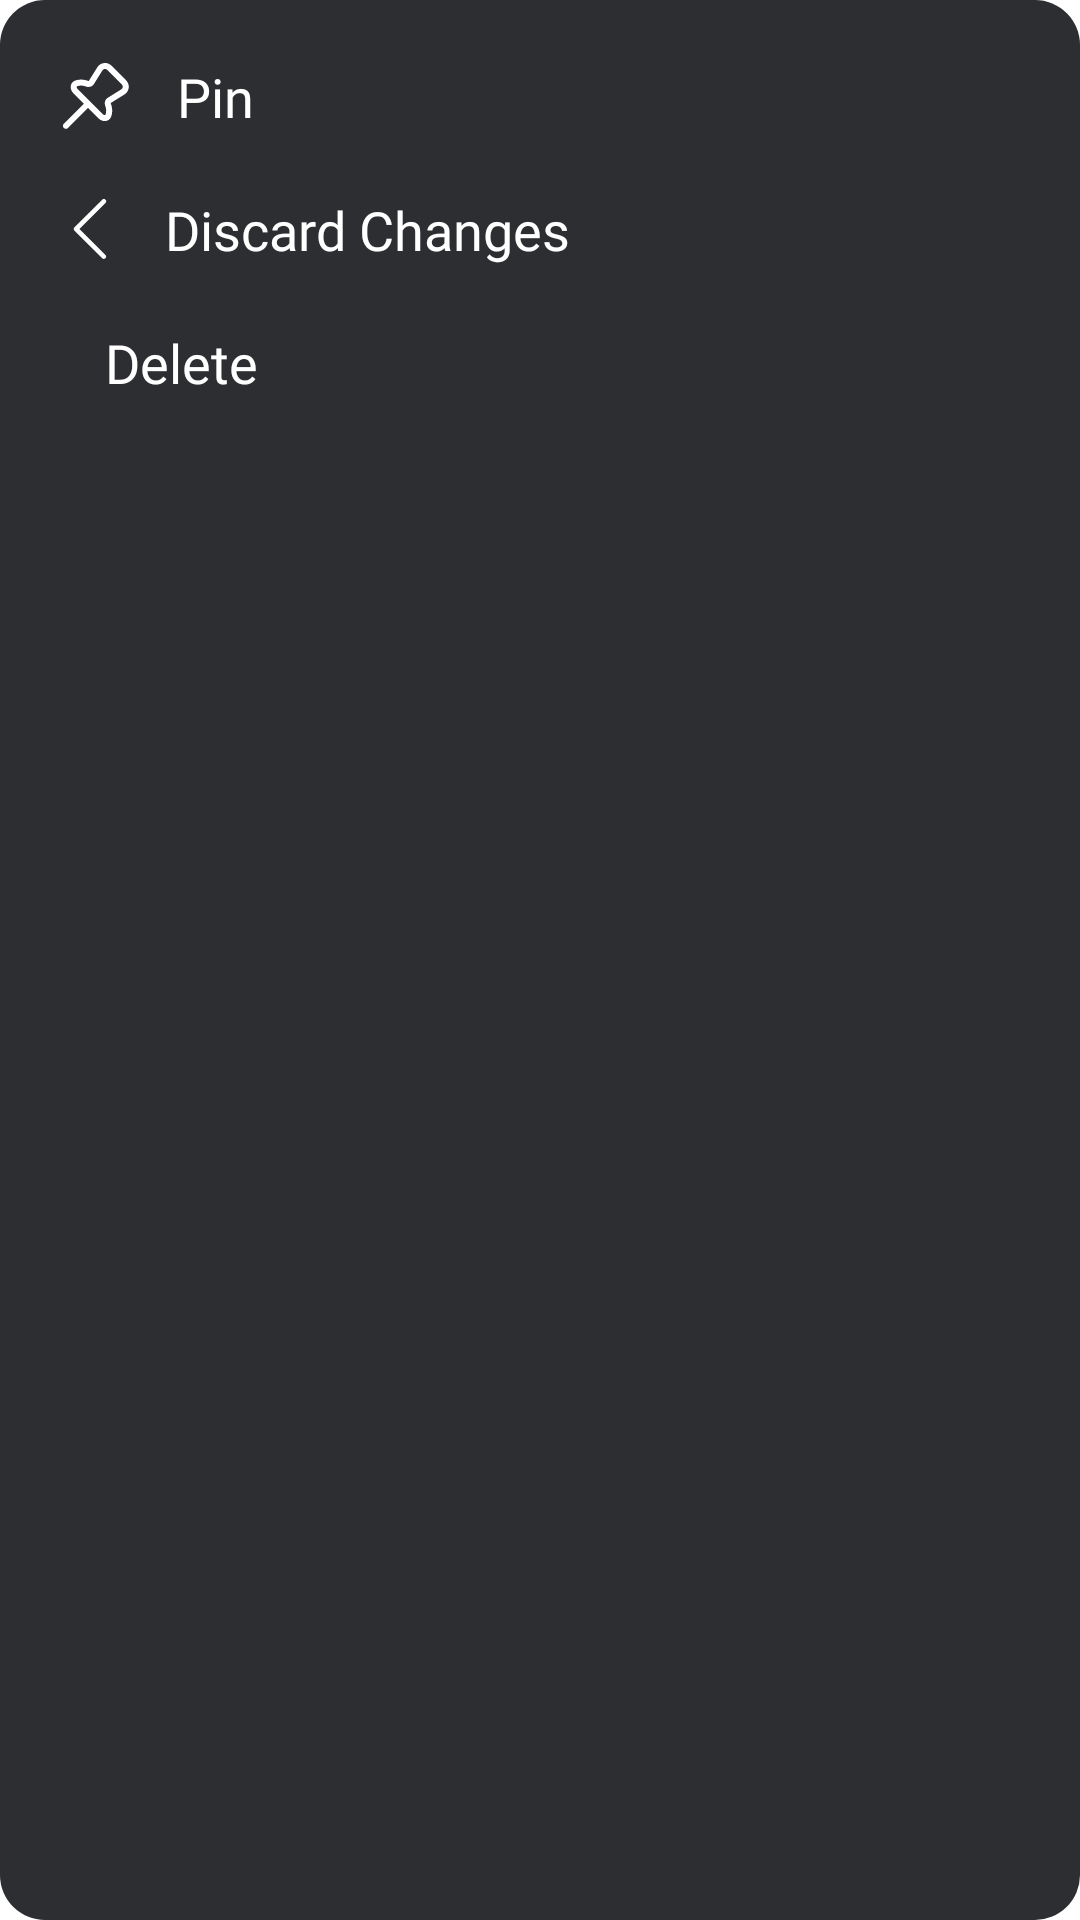

Named icons in this screenshot (1080 x 1920) and their centers, point (x, y):
navigation back arrow: point (90, 229)
